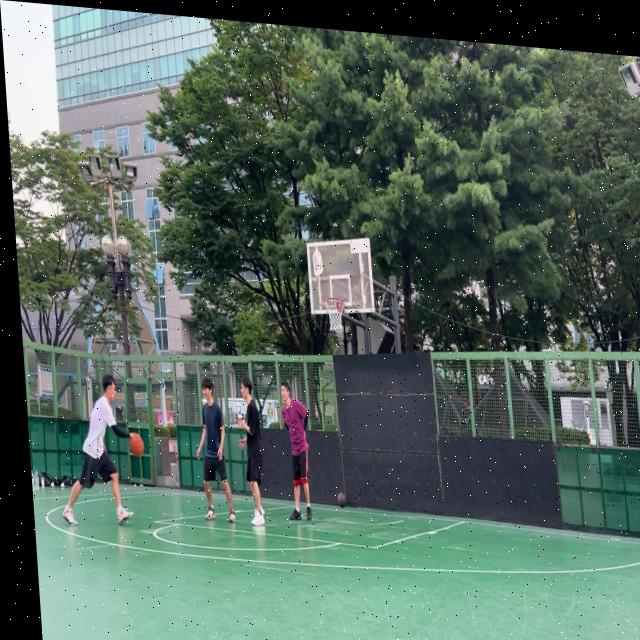basketball: (130, 432, 145, 457), (337, 492, 347, 509)
hoop: (324, 297, 346, 334)
